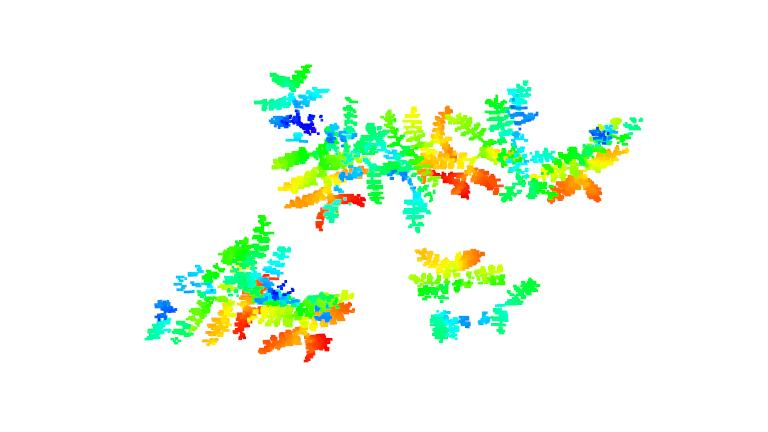chickpea: (250, 67, 383, 236), (141, 213, 275, 343), (386, 94, 507, 228), (408, 241, 541, 343), (255, 243, 356, 370), (464, 73, 547, 201), (538, 120, 646, 206)
